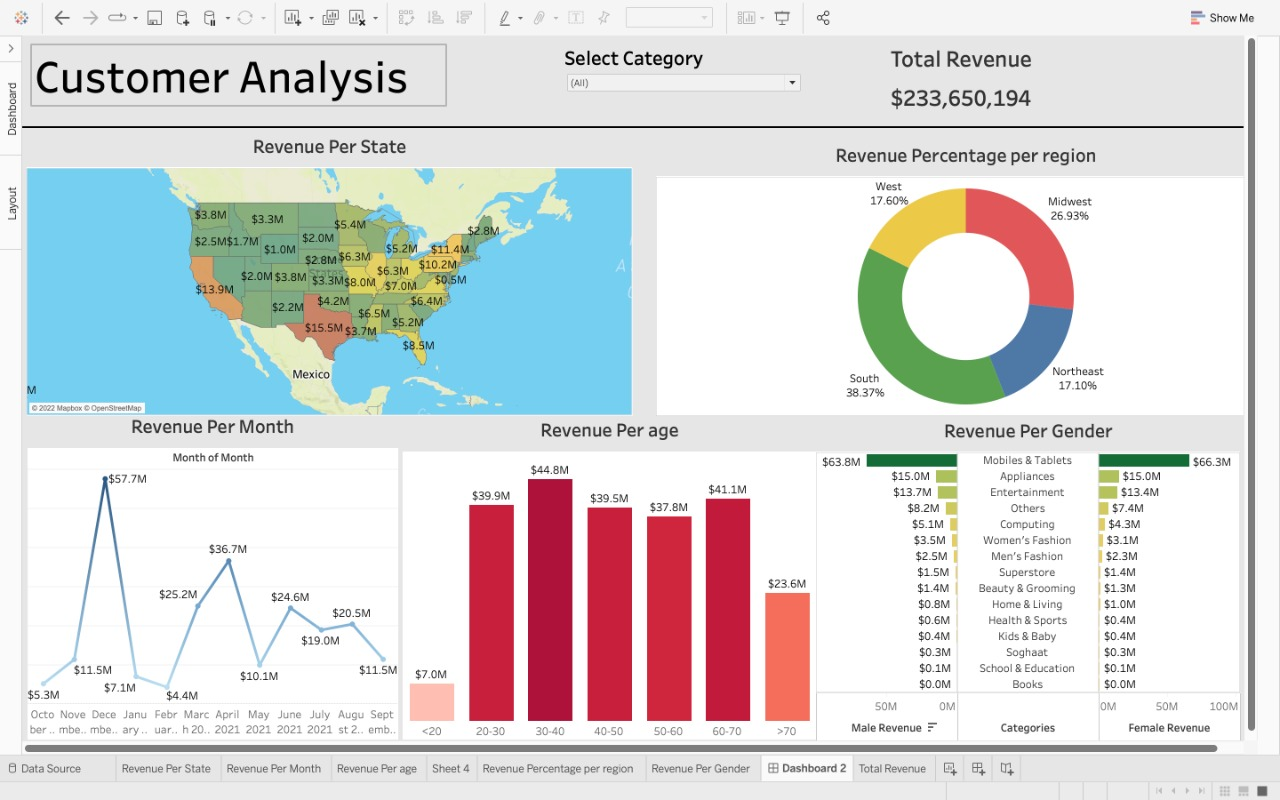

The page's visual inventory and layout, read from the dashboard file:
{"tool":"tableau","page":{"name":"Dashboard 2","canvas":[1400,800],"ordinal":0},"visuals":[{"type":"worksheet","title":"Total Revenue","mark":"Automatic","box":[973,5,374,89]},{"type":"filter","title":"Revenue Per Gender","param":"[federated.1nux10u0b90rz81aoitkc1fhnhn4].[none:category:nk]","box":[610,10,269,74]},{"type":"text","box":[11,11,465,67]},{"type":"worksheet","title":"Revenue Per State","mark":"Automatic","box":[5,106,682,322]},{"type":"worksheet","title":"Revenue Per Month","mark":"Automatic","rows":["total"],"cols":["month"],"box":[6,421,417,371]},{"type":"worksheet","title":"Revenue Per age","mark":"Automatic","rows":["total"],"cols":["Age (bin)"],"box":[428,425,466,367]},{"type":"worksheet","title":"Revenue Per Gender","mark":"Automatic","rows":["category"],"cols":["Calculation_594334468522840067","Calculation_594334468519587841","Calculation_594334468522405890"],"box":[893,426,478,369]}]}

Visuals, with their boxes in screenshot pixels (x1, y1, x2, y2):
"Total Revenue" worksheet: [left=887, top=35, right=1225, bottom=115]
"Revenue Per Gender" filter: [left=560, top=39, right=803, bottom=106]
text: [left=20, top=40, right=439, bottom=100]
"Revenue Per State" worksheet: [left=15, top=126, right=629, bottom=416]
"Revenue Per Month" worksheet: [left=15, top=410, right=391, bottom=744]
"Revenue Per age" worksheet: [left=396, top=413, right=816, bottom=744]
"Revenue Per Gender" worksheet: [left=815, top=414, right=1246, bottom=747]
